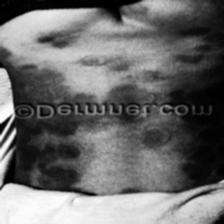Toxin: (92, 52, 138, 72), (46, 144, 78, 170), (138, 126, 170, 144)
